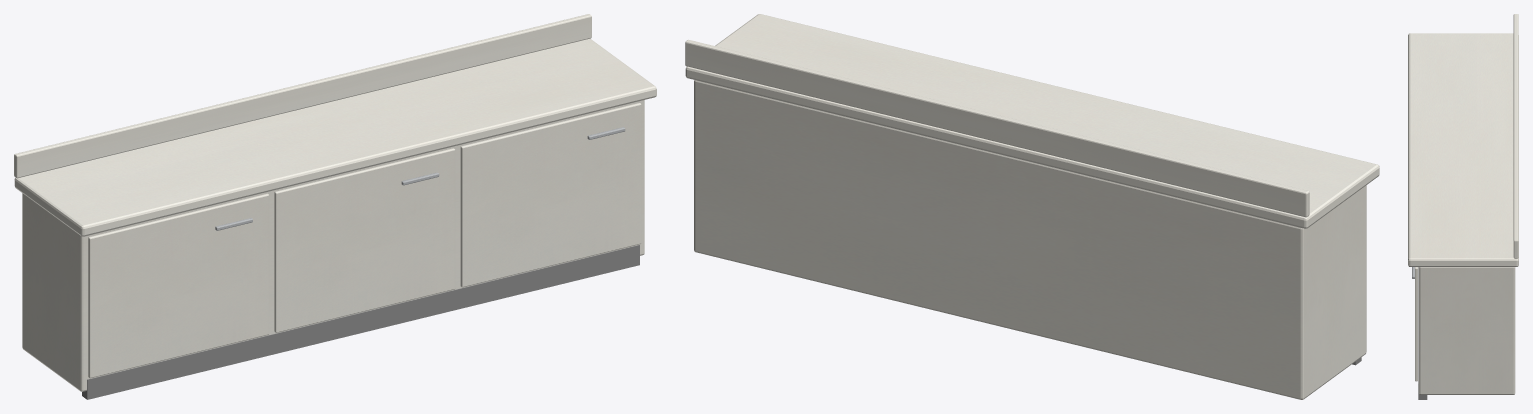
Rendered from breakroom_counter.glb.
The picture shows the model from 3 angles, left to right: view 1: azimuth 30°, elevation 25°; view 2: azimuth 150°, elevation 25°; view 3: azimuth 270°, elevation 25°; orthographic projection. The views are drawn at different scales.
Visible parts, largest first — view 1: Continuous easy-clean countertop, Flat cabinet door, Flat cabinet door.002, Flat cabinet door.001, Short rear backsplash, Plain 3m base cabinet, Recessed dark toe kick; view 2: Plain 3m base cabinet, Continuous easy-clean countertop, Short rear backsplash; view 3: Continuous easy-clean countertop, Plain 3m base cabinet, Short rear backsplash, Flat cabinet door.002, Recessed dark toe kick.
Part boxes in pixels (<box>): Continuous easy-clean countertop: <box>14,38,656,236</box>; Flat cabinet door: <box>88,193,269,378</box>; Flat cabinet door.002: <box>460,103,641,287</box>; Flat cabinet door.001: <box>274,148,455,332</box>; Short rear backsplash: <box>14,14,591,178</box>; Plain 3m base cabinet: <box>22,100,644,391</box>; Recessed dark toe kick: <box>82,245,639,399</box>; Plain 3m base cabinet: <box>694,80,1366,399</box>; Continuous easy-clean countertop: <box>685,14,1379,228</box>; Short rear backsplash: <box>685,39,1309,217</box>; Continuous easy-clean countertop: <box>1408,33,1518,266</box>; Plain 3m base cabinet: <box>1418,267,1515,394</box>; Short rear backsplash: <box>1513,14,1518,258</box>; Flat cabinet door.002: <box>1415,267,1417,381</box>; Recessed dark toe kick: <box>1418,267,1427,399</box>.
Bounding box in the file's own units: 3 × 1.01 × 0.62.
3 materials, 2 textured.
